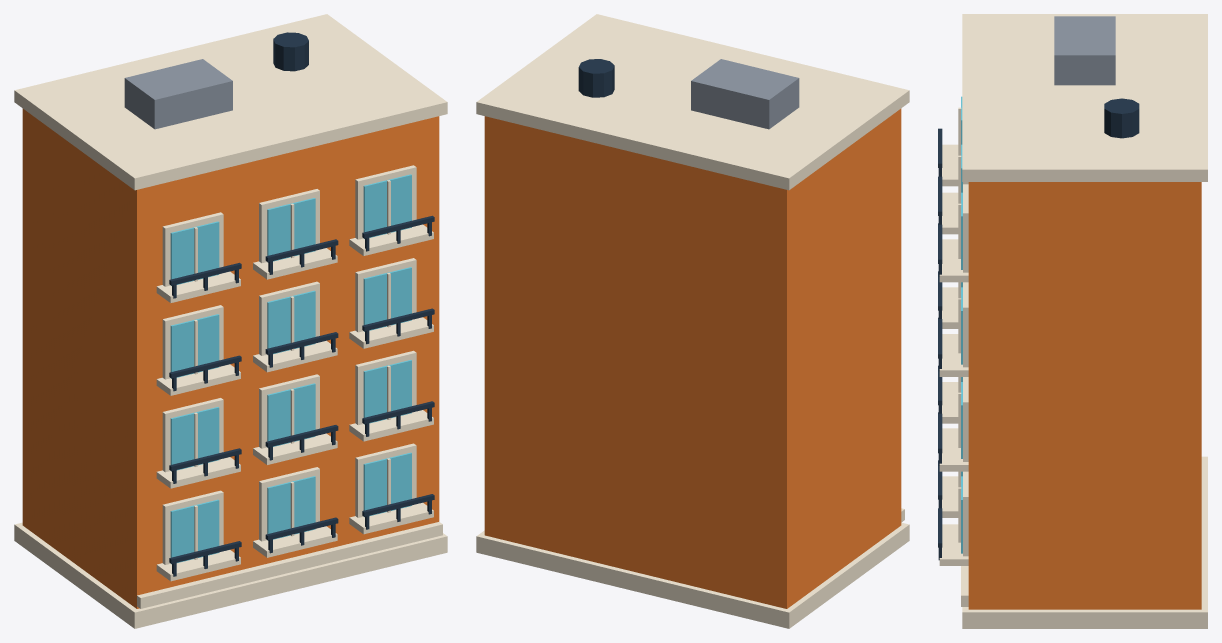
The model's file is 08_apartment_wide.obj.
3 renders of one model, left to right at view 1: azimuth 30°, elevation 25°; view 2: azimuth 150°, elevation 25°; view 3: azimuth 270°, elevation 25°, orthographic.
Visible parts, largest first — view 1: part_1, part_2, part_0, part_100, part_3, part_77, part_5, part_29, part_53, part_37, part_61, part_85 (+30 smaller); view 2: part_1, part_2, part_0, part_100, part_101; view 3: part_1, part_2, part_0, part_100, part_101, part_95, part_47, part_23, part_71, part_79, part_87, part_15 (+6 smaller).
Part boxes in pixels (x1,y1,x2,y2): part_1: [22, 108, 439, 608]; part_2: [14, 14, 447, 190]; part_0: [14, 522, 447, 628]; part_100: [124, 59, 232, 129]; part_3: [137, 522, 442, 608]; part_77: [170, 221, 219, 285]; part_5: [170, 499, 219, 564]; part_29: [170, 407, 219, 471]; part_53: [170, 314, 219, 378]; part_37: [267, 383, 315, 447]; part_61: [267, 290, 315, 354]; part_85: [267, 198, 315, 262]; part_1: [484, 108, 901, 608]; part_2: [476, 14, 909, 190]; part_0: [476, 522, 909, 628]; part_100: [691, 59, 799, 129]; part_101: [578, 59, 614, 97]; part_1: [968, 182, 1201, 609]; part_2: [962, 14, 1207, 181]; part_0: [962, 456, 1207, 628]; part_100: [1054, 16, 1115, 85]; part_101: [1104, 98, 1139, 138]; part_95: [939, 240, 968, 282]; part_47: [939, 430, 968, 471]; part_23: [939, 524, 968, 565]; part_71: [939, 335, 968, 376]; part_79: [942, 144, 958, 186]; part_87: [942, 192, 958, 234]; part_15: [942, 476, 958, 517].
Size of the model in its own units: 6 by 8.8 by 4.39.
